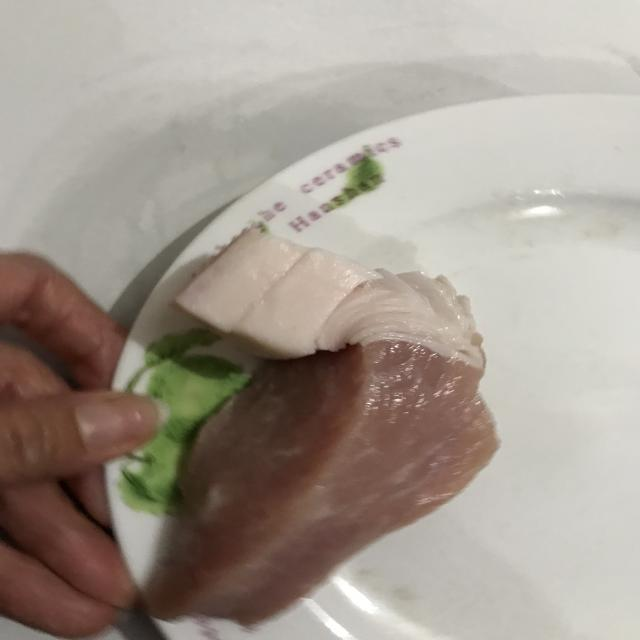chicken: (156, 234, 501, 630)
